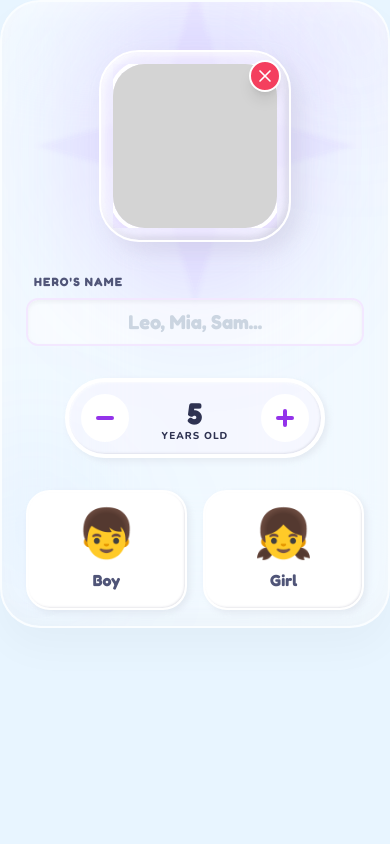
Test case: HeroIdentityForm › shows delete button on avatar when preview is present
Expected: the icon with class "lucide-x" is shown, [255,66,275,86]
Click the button with class "lucide-x" at x=265, y=76, box [249,60,281,92]
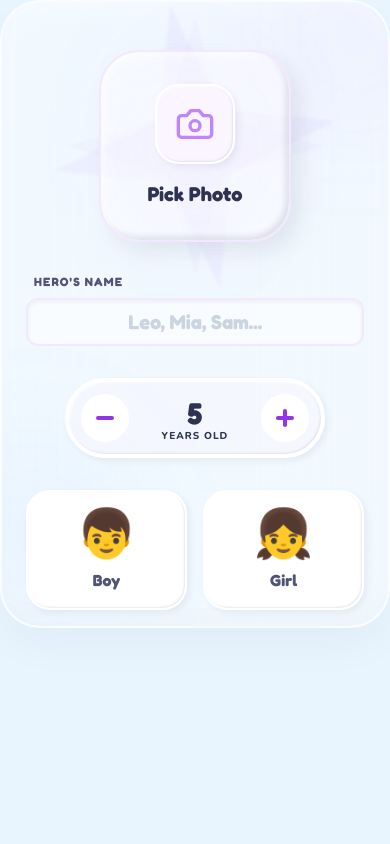
Expected: the icon with class "lucide-x" is gone
Expected: the text "Pick Photo" is shown, [148,180,243,208]
